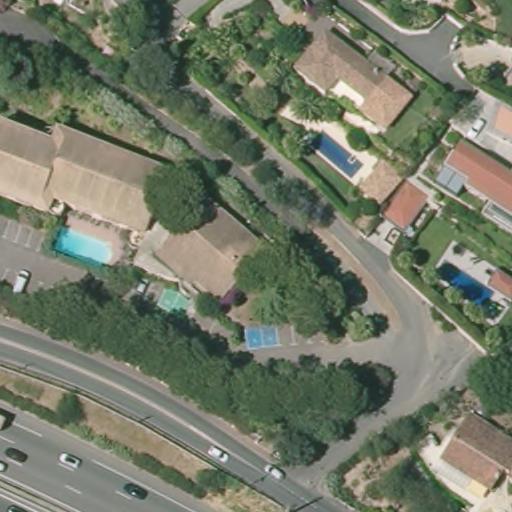pool: (48, 219, 119, 271), (436, 258, 502, 312), (305, 125, 365, 183), (151, 280, 199, 326)
